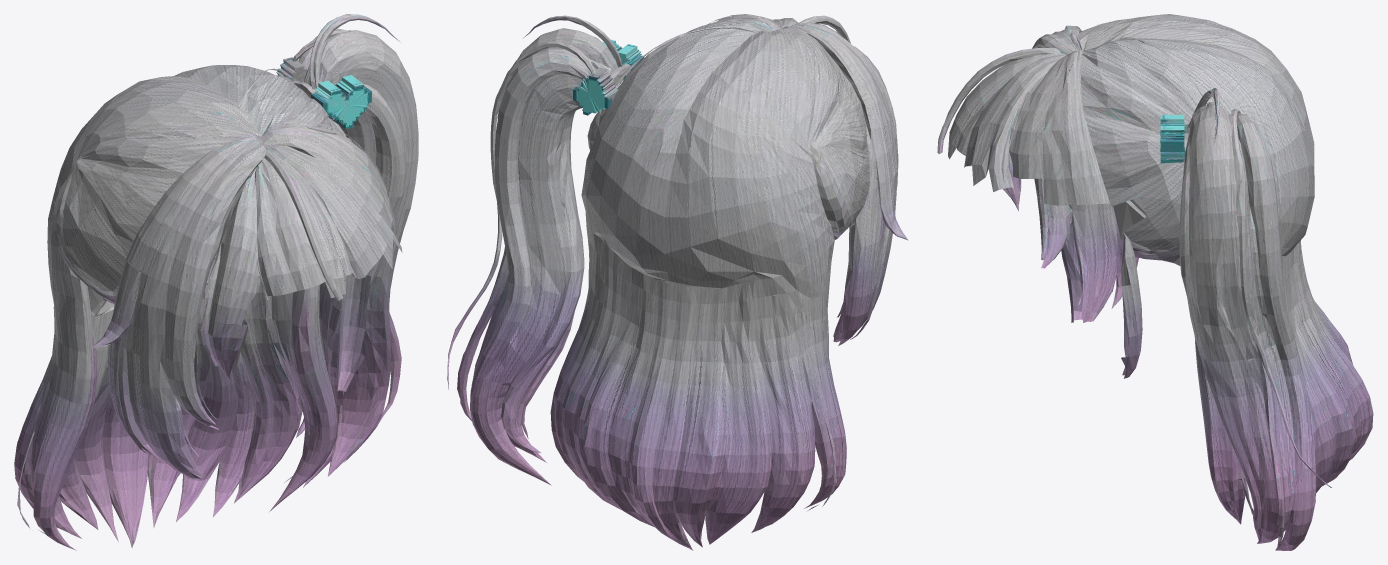
File: ewm_vtwig.glb
The picture shows the model from 3 angles, left to right: view 1: azimuth 30°, elevation 25°; view 2: azimuth 150°, elevation 25°; view 3: azimuth 270°, elevation 25°; orthographic projection. The views are drawn at different scales.
Visible parts, largest first — view 1: ewm_vtwig; view 2: ewm_vtwig; view 3: ewm_vtwig.
Boxes of the visible parts, <box> form: ewm_vtwig: <box>14,14,418,550</box>; ewm_vtwig: <box>447,14,908,550</box>; ewm_vtwig: <box>937,14,1373,550</box>.
Size of the model in its own units: 0.3835 by 0.4707 by 0.3821.
Materials: 1 (1 with a texture image).
